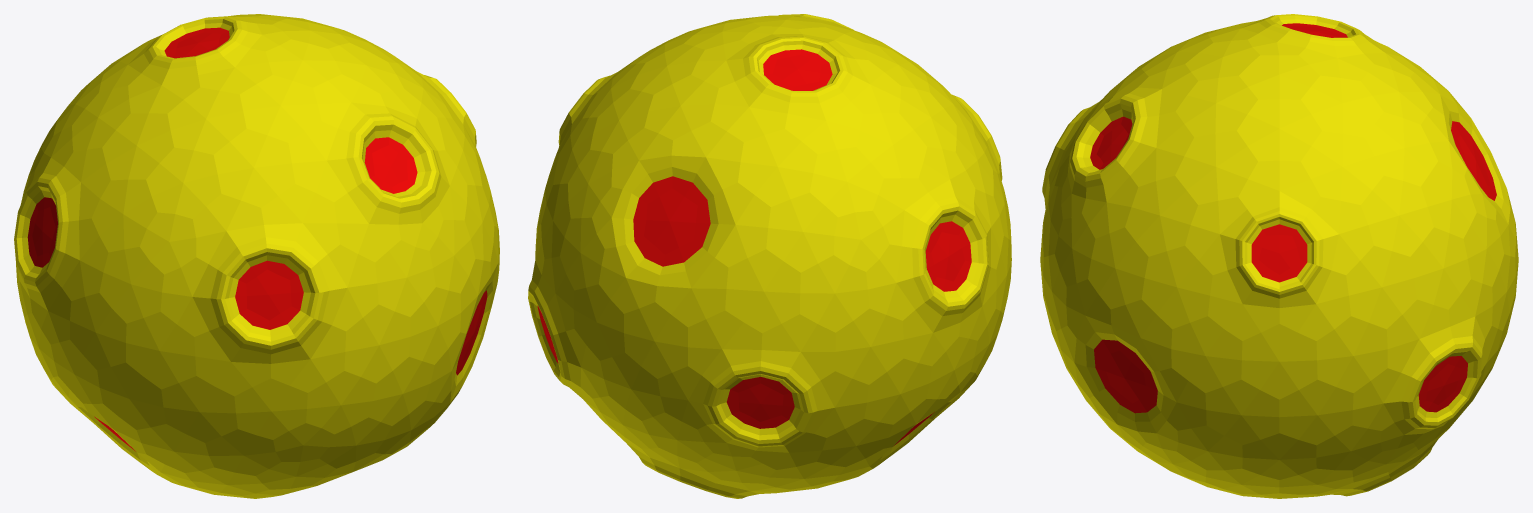
File: GameAssetPlanetYellow.fbx
3 renders of one model, left to right at view 1: azimuth 30°, elevation 25°; view 2: azimuth 150°, elevation 25°; view 3: azimuth 270°, elevation 25°, orthographic.
Visible parts, largest first — view 1: Planet; view 2: Planet; view 3: Planet.
Boxes of the visible parts, box(x1,y1,x2,y2) form: Planet: box(14, 14, 499, 498); Planet: box(528, 14, 1011, 498); Planet: box(1040, 14, 1518, 498).
Size of the model in its own units: 309 by 310 by 304.
